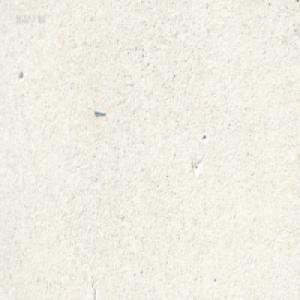Nail: (92, 106, 106, 115)
